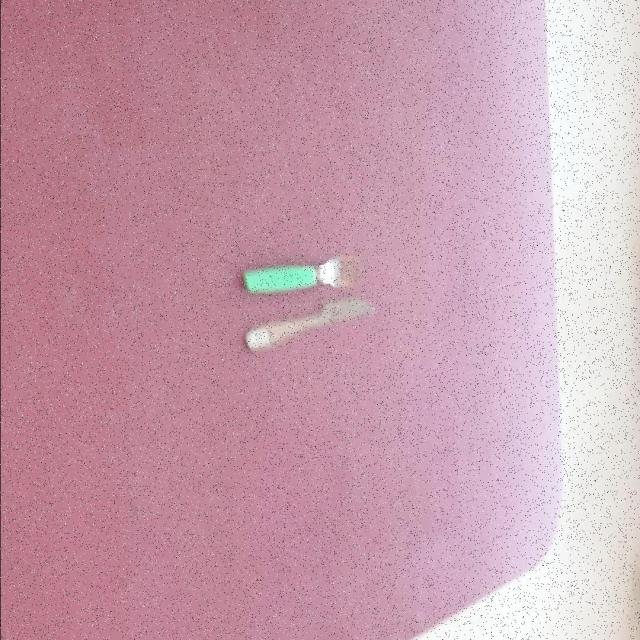Fork: (243, 252, 363, 294)
Knife: (244, 296, 378, 351)
